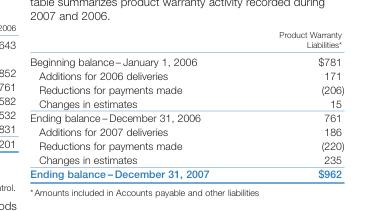table: (29, 29, 343, 179)
table column: (29, 29, 243, 179), (243, 29, 343, 179)
table column header: (29, 29, 343, 51)
table row: (29, 29, 343, 51), (29, 51, 343, 68), (29, 68, 343, 82), (29, 82, 343, 96), (29, 96, 343, 110), (29, 110, 343, 124), (29, 124, 343, 138), (29, 138, 343, 152), (29, 152, 343, 166), (29, 166, 343, 179)
